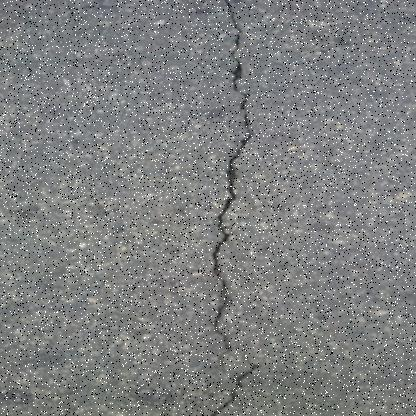Cracks: (187, 0, 275, 415)
